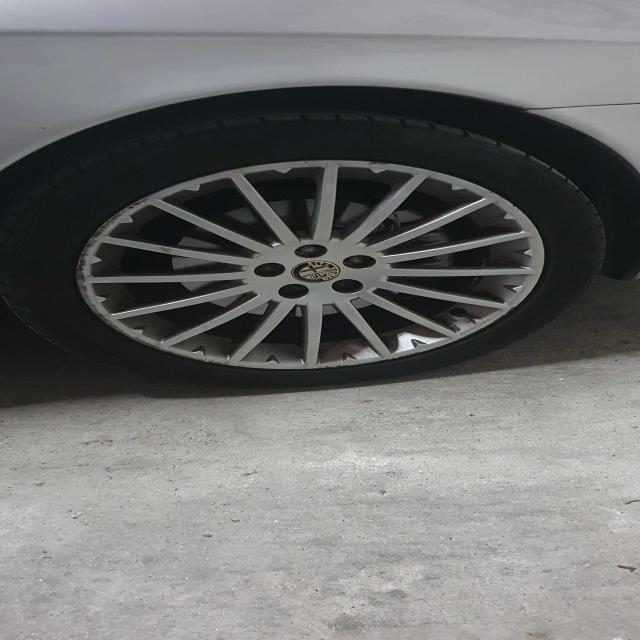jante: (74, 158, 546, 370)
parafuso: (246, 261, 291, 279), (288, 242, 330, 260), (274, 284, 316, 301), (330, 278, 368, 295), (340, 253, 377, 270)
roda: (0, 107, 610, 387)
